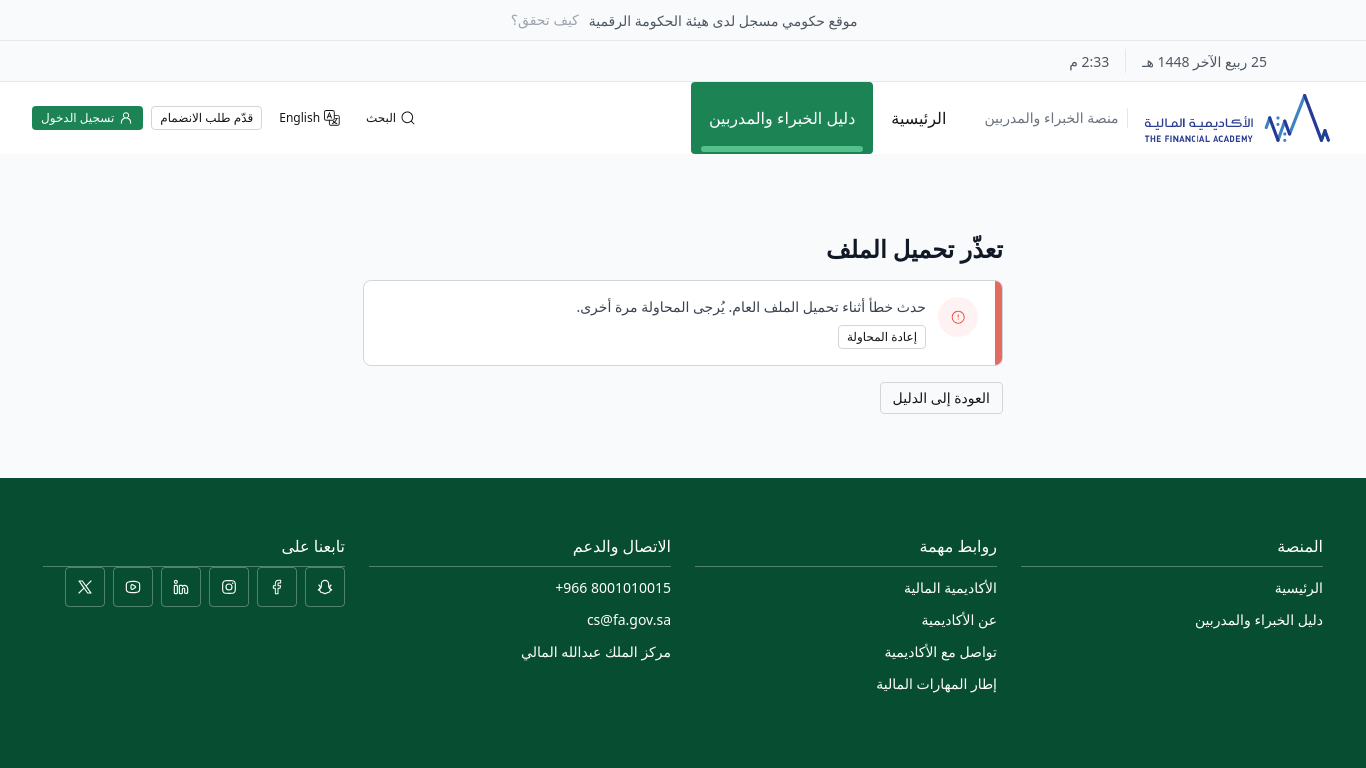
Scenario: EH-PUB-03 — Public Trainer Profile › shows a retryable error state on a transport failure (not a 404)
Check: the heading "تعذّر تحميل الملف" is shown, box [826,232,1003,265]
Click the button "إعادة المحاولة".
click(882, 337)  # box [838,325,926,349]
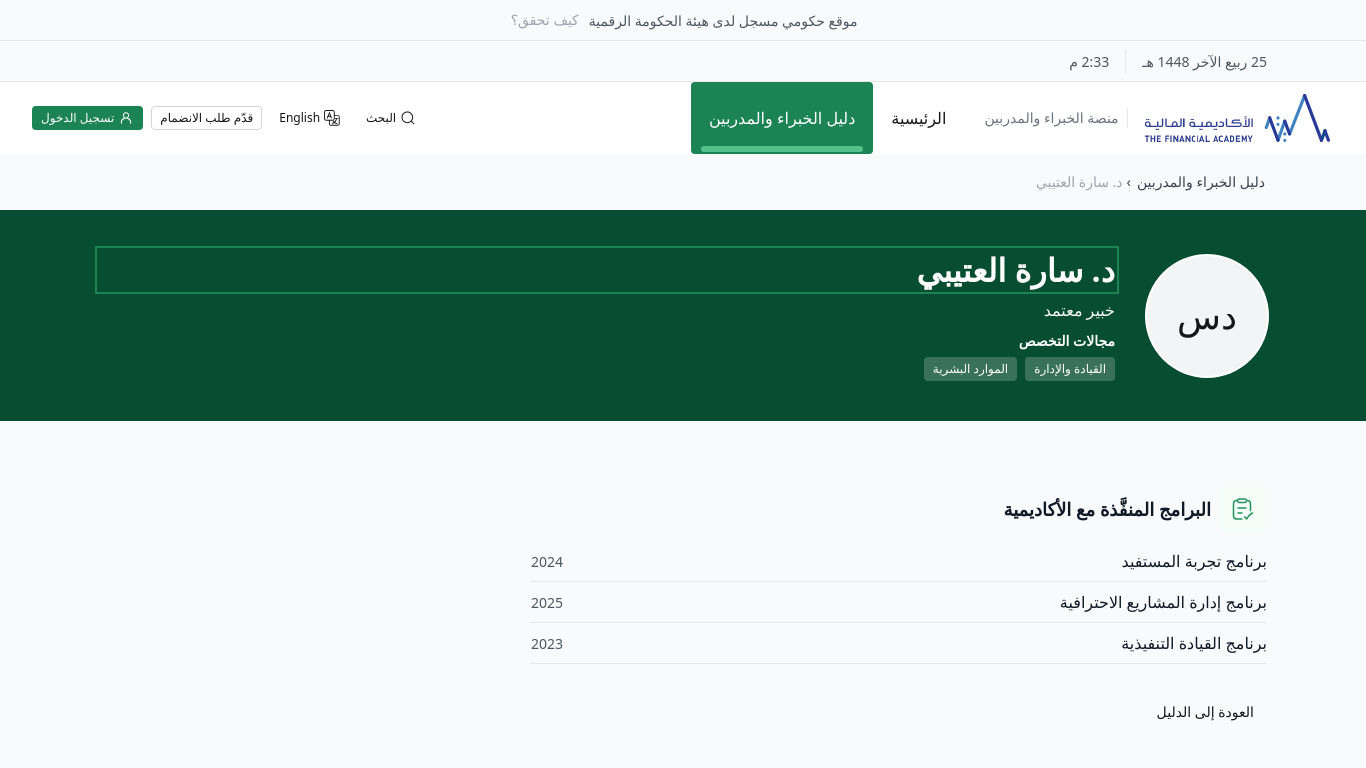
Check: the heading "د. سارة العتيبي" is shown, box [916,248,1115,291]
